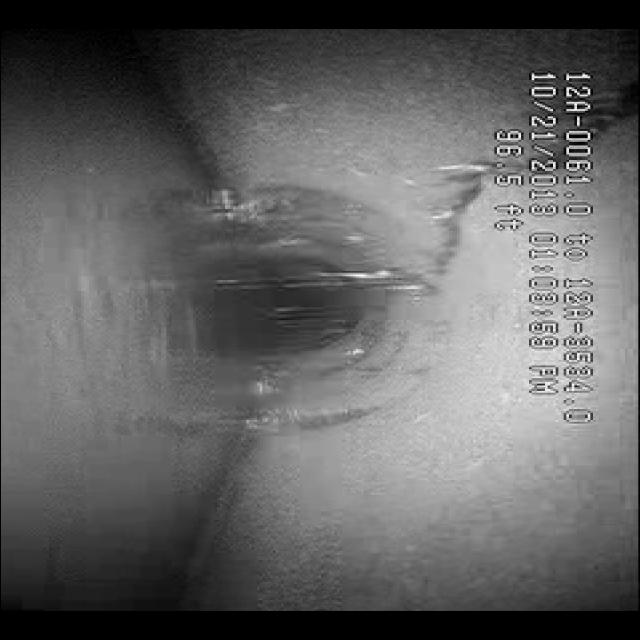Fracture: (368, 168, 497, 302)
